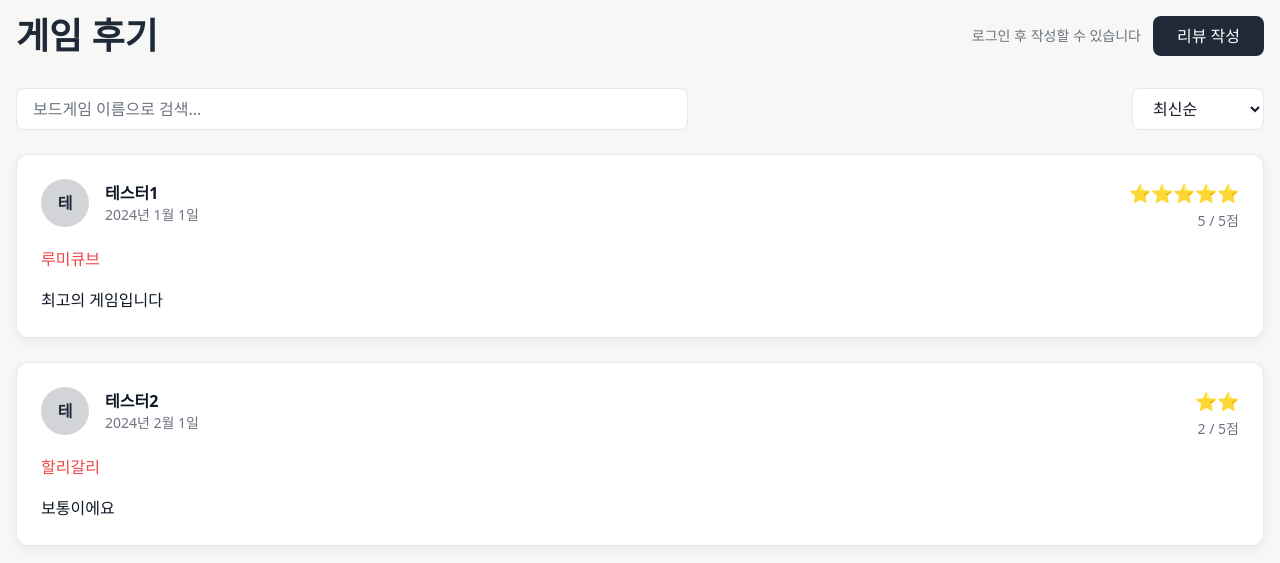
Test: Reviews 페이지 › 검색어를 입력하면 일치하는 게임의 리뷰만 표시된다
Expected: the text "루미큐브" is shown, [41,247,100,271]
Step 1. Type "루미큐브" into the field with placeholder "보드게임 이름으로 검색..." → point(352, 109), box [16,88,688,130]
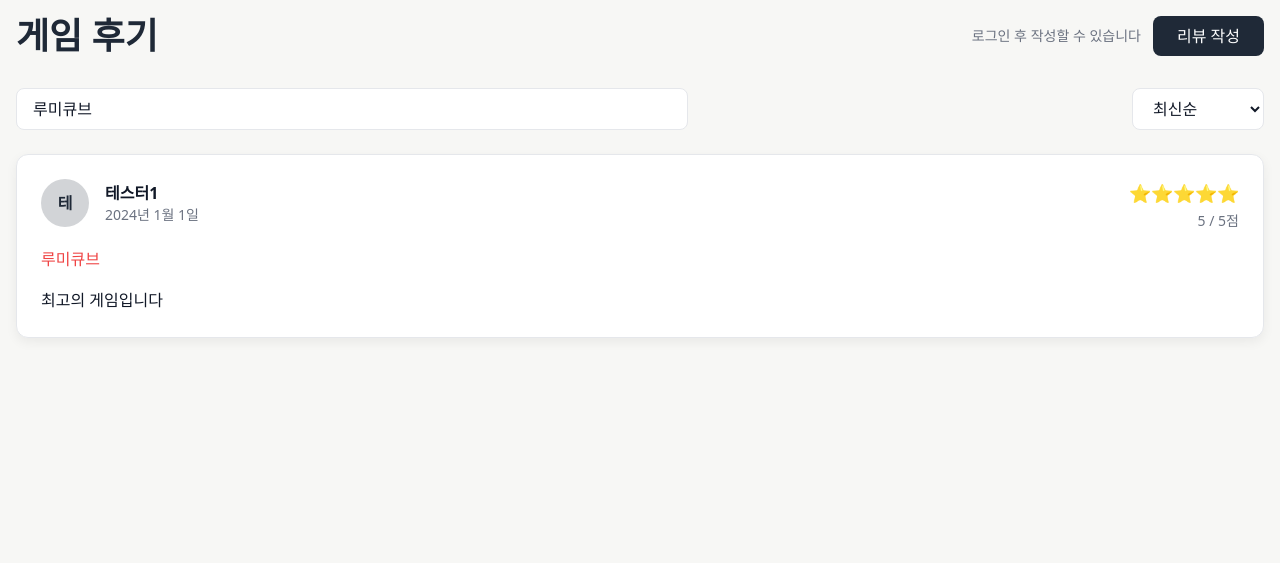
Expected: the text "루미큐브" is shown, [41,247,100,271]
Now the link "할리갈리" is gone
